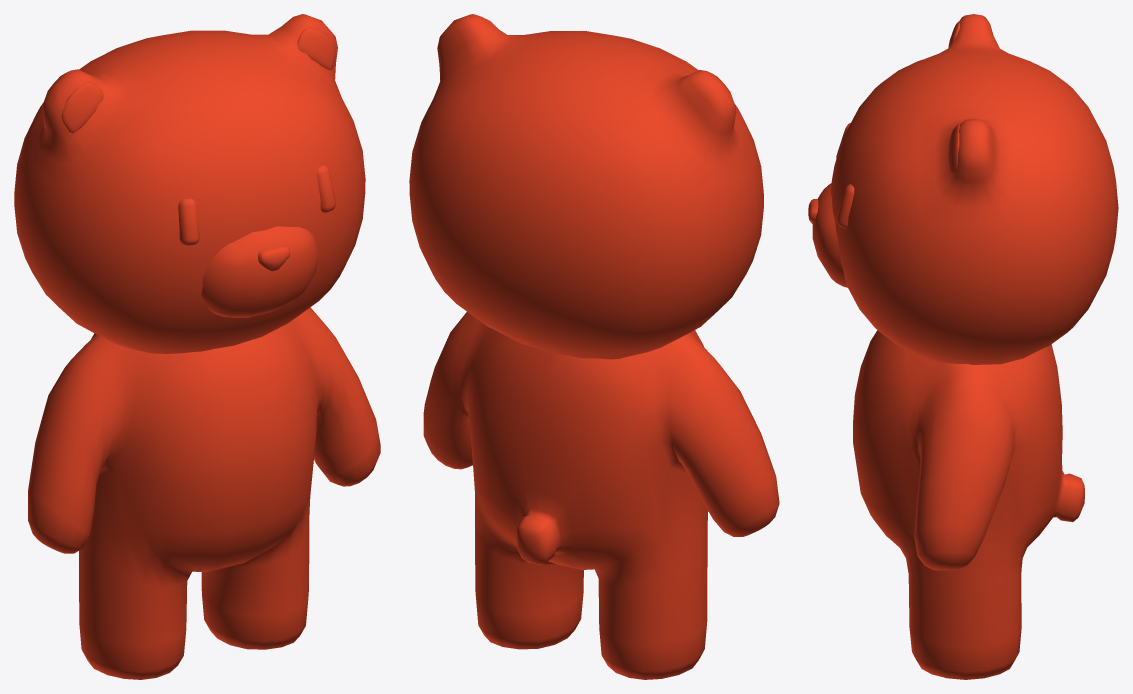
Rendered from Orso.fbx.
3 renders of one model, left to right at view 1: azimuth 30°, elevation 25°; view 2: azimuth 150°, elevation 25°; view 3: azimuth 270°, elevation 25°, orthographic. The views are drawn at different scales.
Visible parts, largest first — view 1: Cube.003; view 2: Cube.003; view 3: Cube.003.
Part boxes in pixels (left/top/right/bottom): Cube.003: left=14, top=14, right=380, bottom=679; Cube.003: left=409, top=14, right=779, bottom=679; Cube.003: left=808, top=14, right=1118, bottom=679.
Size of the model in its own units: 240 by 398 by 197.
